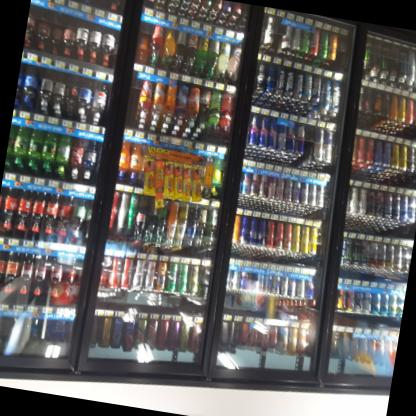empty_space: (0, 315, 36, 359), (123, 75, 144, 129), (91, 0, 110, 9)
